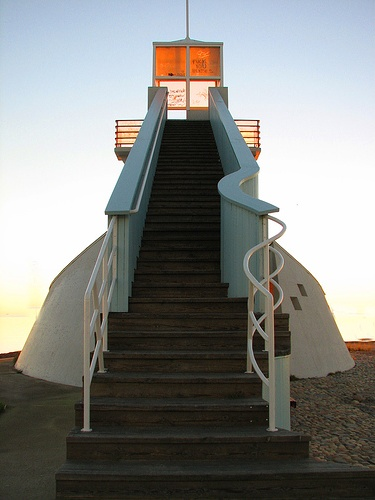stairs_up: (93, 117, 306, 496)
